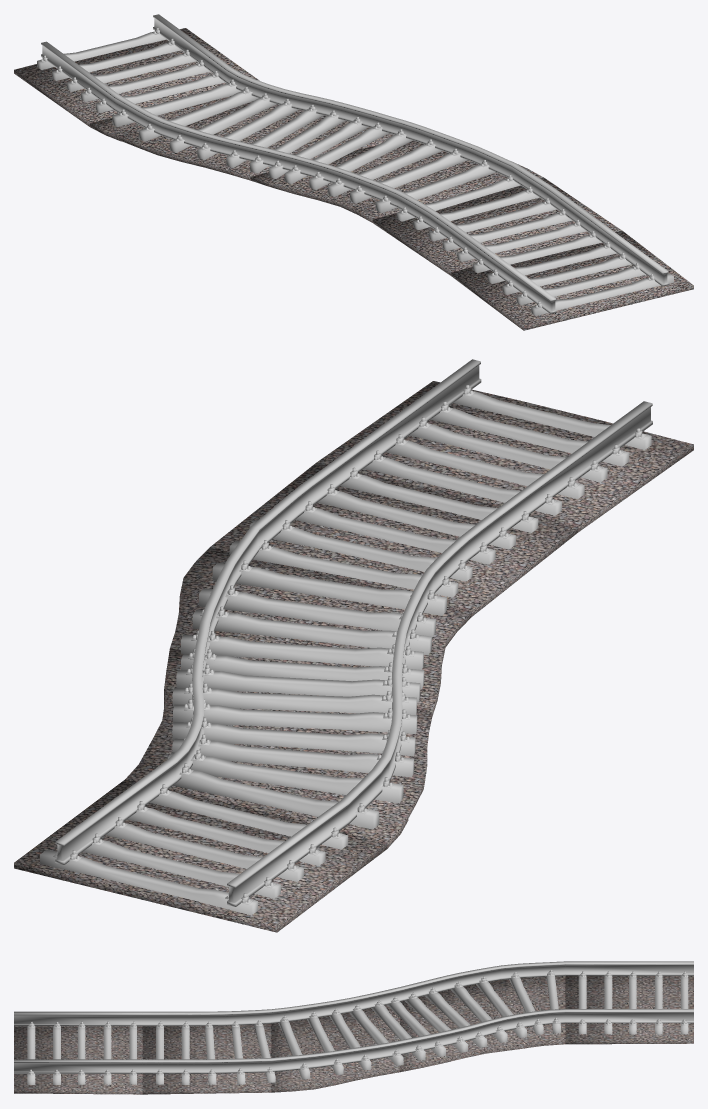
File: track_straigh_concrete_left1.fbx
3 views of the same model, one above another, from view 1: azimuth 30°, elevation 25°; view 2: azimuth 150°, elevation 25°; view 3: azimuth 270°, elevation 25° (orthographic). The views are drawn at different scales.
Parts seen in each view (by area): view 1: concrete, ground, rails; view 2: concrete, ground, rails; view 3: ground, rails, concrete.
Boxes of the visible parts, <box> form: concrete: <box>37,32,673,315</box>; ground: <box>14,28,693,330</box>; rails: <box>39,14,668,313</box>; concrete: <box>40,391,651,915</box>; ground: <box>14,381,693,932</box>; rails: <box>53,359,652,906</box>; ground: <box>14,976,693,1094</box>; rails: <box>14,961,693,1075</box>; concrete: <box>27,973,688,1084</box>.
Bounding box in the file's own units: 4.83 × 0.381 × 11.23.
